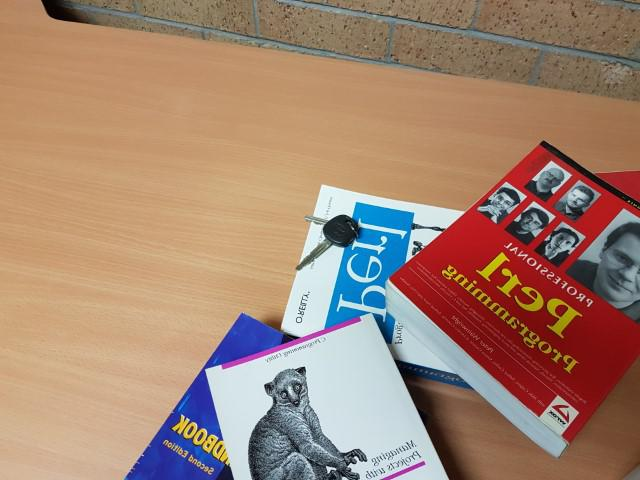key: (297, 215, 357, 269)
